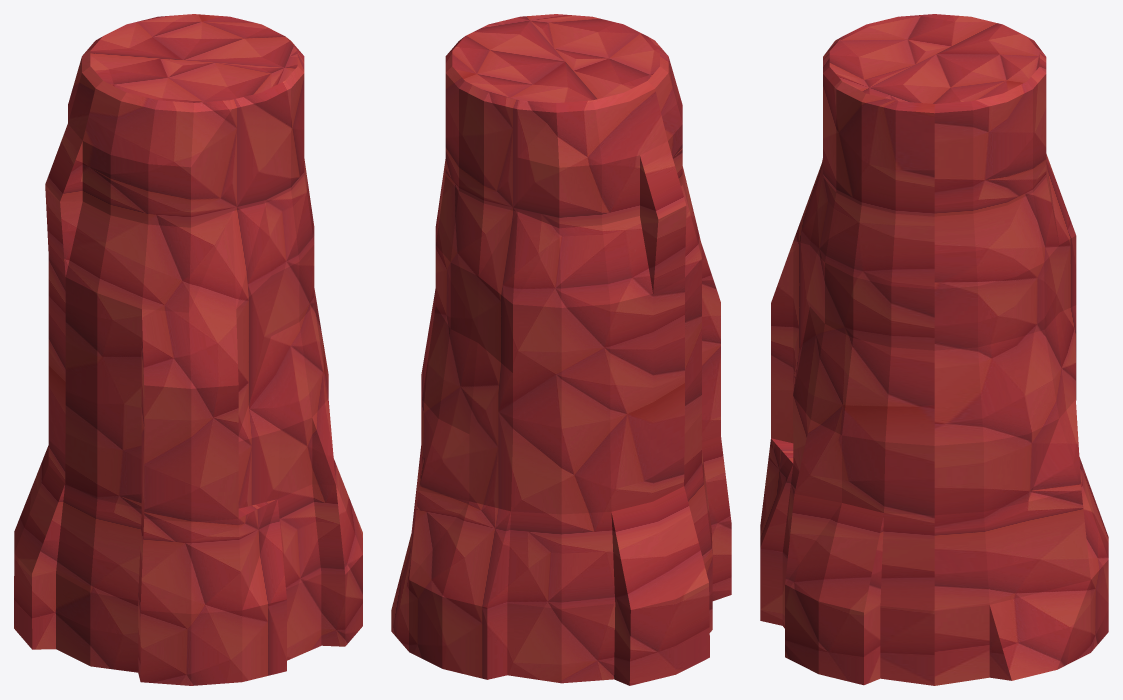
The model's file is rock_gidoong.FBX.
3 renders of one model, left to right at view 1: azimuth 30°, elevation 25°; view 2: azimuth 150°, elevation 25°; view 3: azimuth 270°, elevation 25°, orthographic.
Visible parts, largest first — view 1: Cylinder001; view 2: Cylinder001; view 3: Cylinder001.
Part boxes in pixels (bbox=[...]): Cylinder001: bbox=[14, 14, 362, 685]; Cylinder001: bbox=[391, 14, 731, 685]; Cylinder001: bbox=[760, 14, 1108, 685].
Bounding box in the file's own units: 85.33 × 156 × 87.17.
